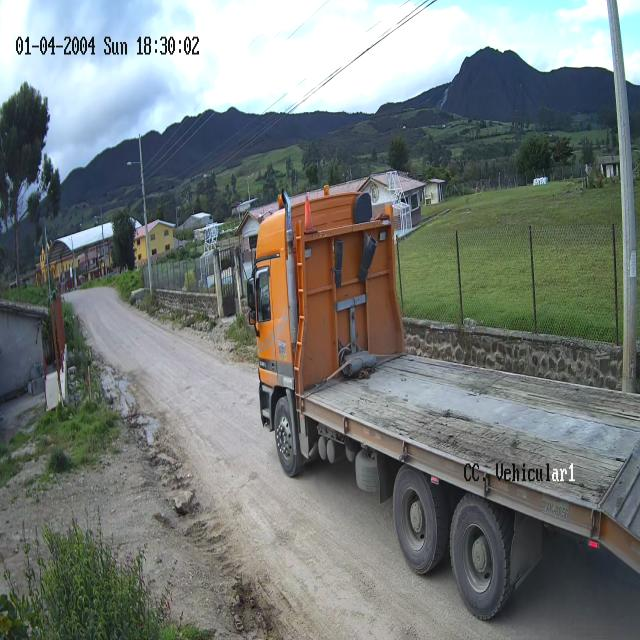TRUCK: (252, 182, 640, 622)
